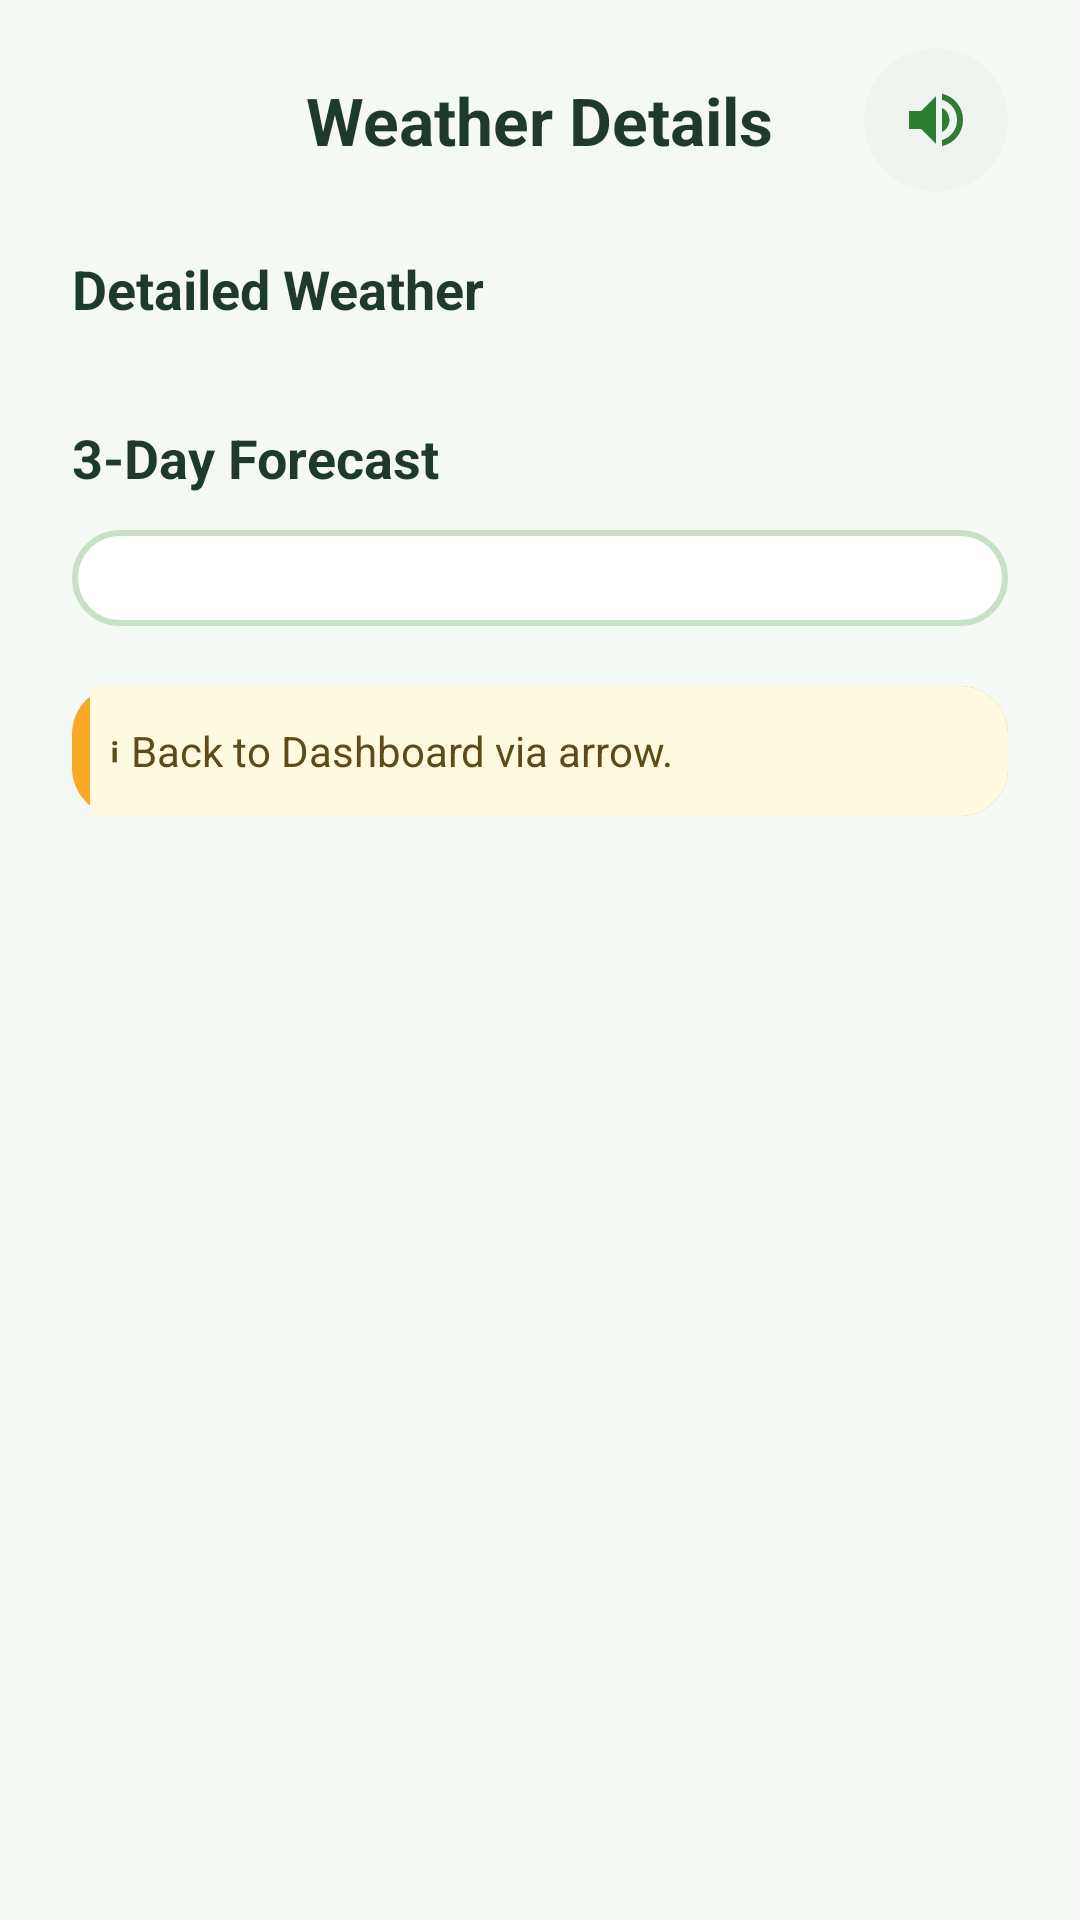

Icons on this 1080 × 1920 Android screen, each with its box as box=[x1, y1, x2, y2]:
volume up: box=[909, 93, 963, 146]
